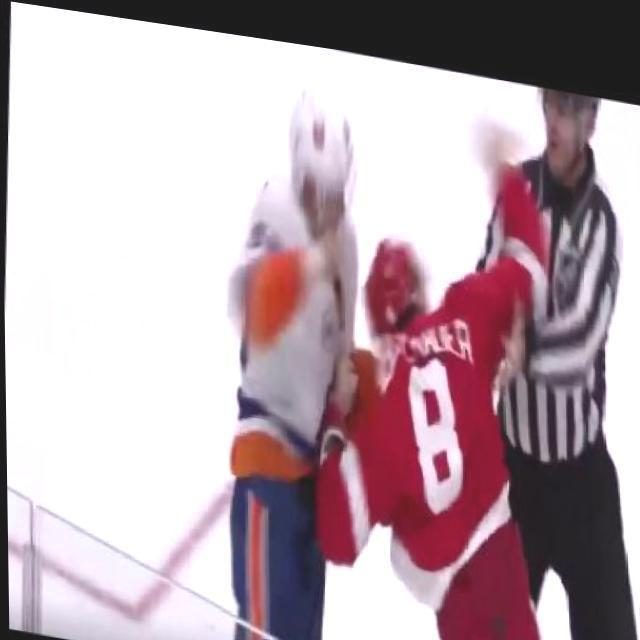fight: (211, 25, 564, 640)
